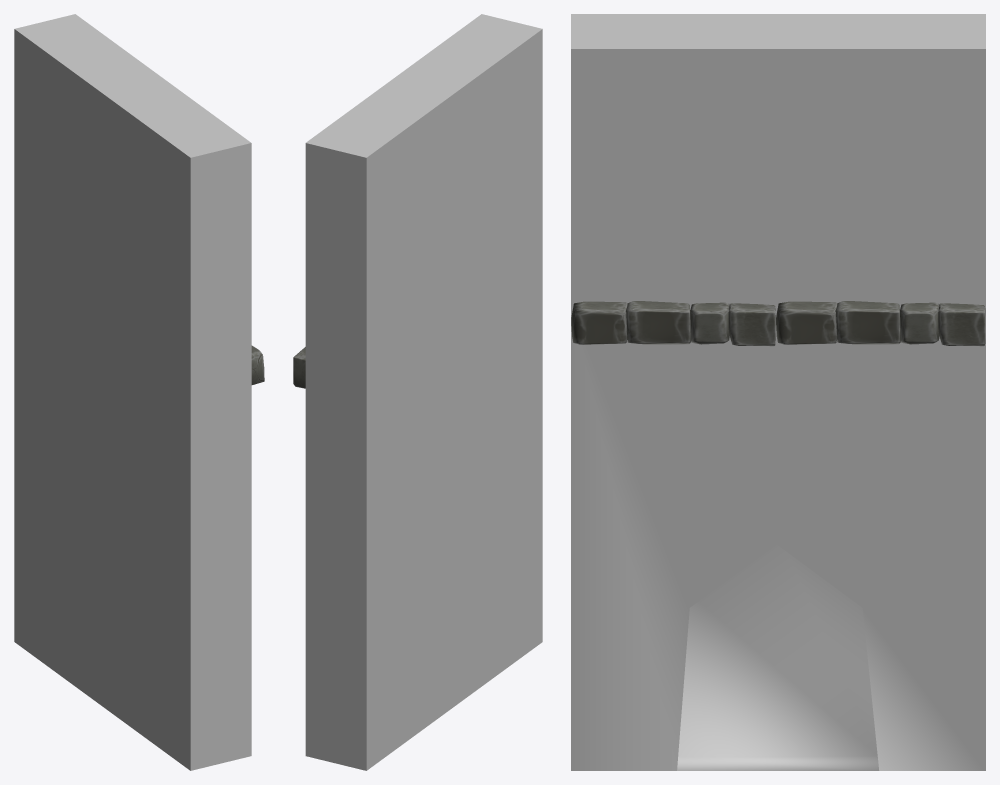
Rendered from Wall_Arch_B.fbx.
The picture shows the model from 3 angles, left to right: view 1: azimuth 30°, elevation 25°; view 2: azimuth 150°, elevation 25°; view 3: azimuth 270°, elevation 25°; orthographic projection. The views are drawn at different scales.
Visible parts, largest first — view 1: Wall_Arch_B; view 2: Wall_Arch_B; view 3: Wall_Arch_B.
Part boxes in pixels (left/top/right/bottom): Wall_Arch_B: left=14, top=14, right=264, bottom=770; Wall_Arch_B: left=293, top=14, right=542, bottom=770; Wall_Arch_B: left=571, top=14, right=985, bottom=770.
Bounding box in the file's own units: 545 × 4183 × 2178.
